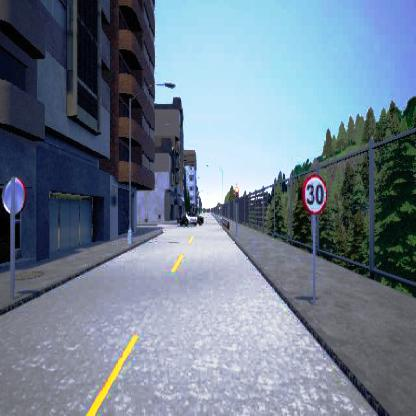vehicle: (176, 210, 203, 226)
